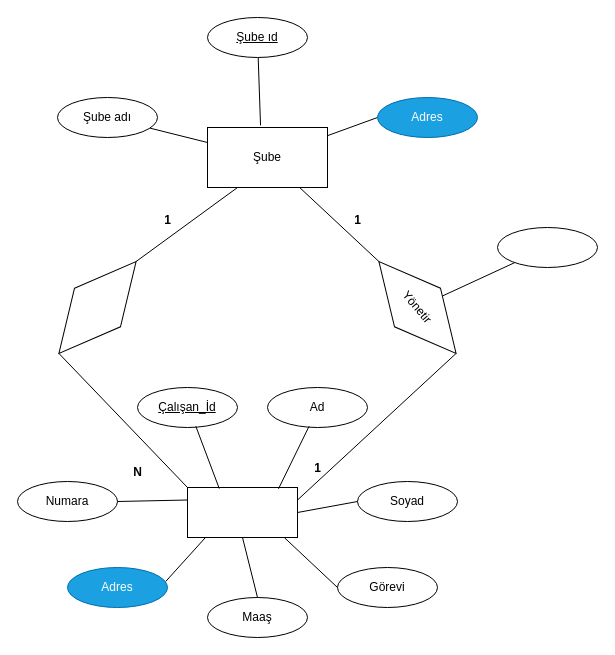
Some shapes in this 615 by 655 pixel diagram are drawn without their labels. The box of each missing label's shape, as (x1, y1, x2, y2) in pixels:
yönetici_id: (496, 226, 598, 268)
Çalışan: (186, 486, 298, 538)
Çalışır: (35, 241, 159, 373)
